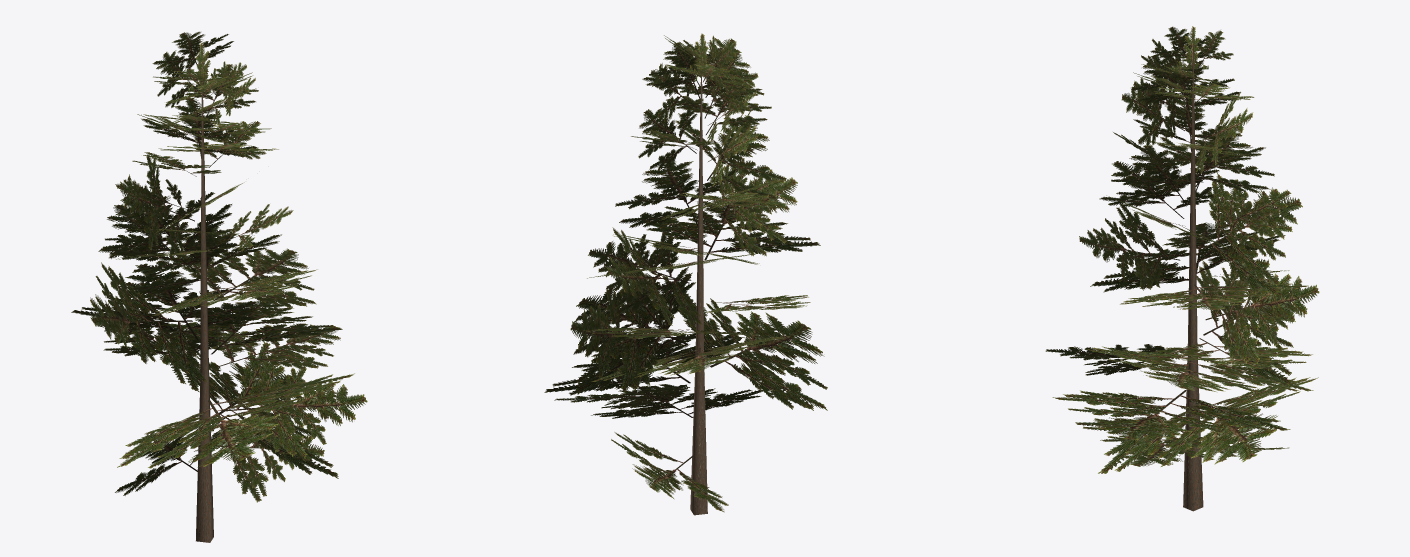
The model's file is fir_small_b_lod5.gltf.
3 views of the same model, side by side, from view 1: azimuth 30°, elevation 25°; view 2: azimuth 150°, elevation 25°; view 3: azimuth 270°, elevation 25° (orthographic). The views are drawn at different scales.
Parts seen in each view (by area): view 1: fir_small_b_LOD5; view 2: fir_small_b_LOD5; view 3: fir_small_b_LOD5.
Boxes of the visible parts, box(x1,y1,x2,y2) form: fir_small_b_LOD5: box(71, 31, 367, 542); fir_small_b_LOD5: box(544, 33, 827, 515); fir_small_b_LOD5: box(1045, 26, 1319, 511).
Bounding box in the file's own units: 11.44 × 14.53 × 11.67.
2 materials, 2 textured.
